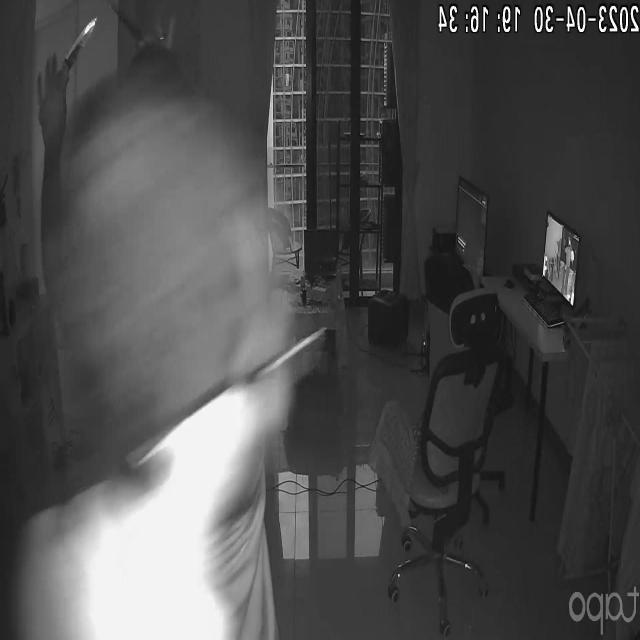Knife: (56, 8, 109, 68)
